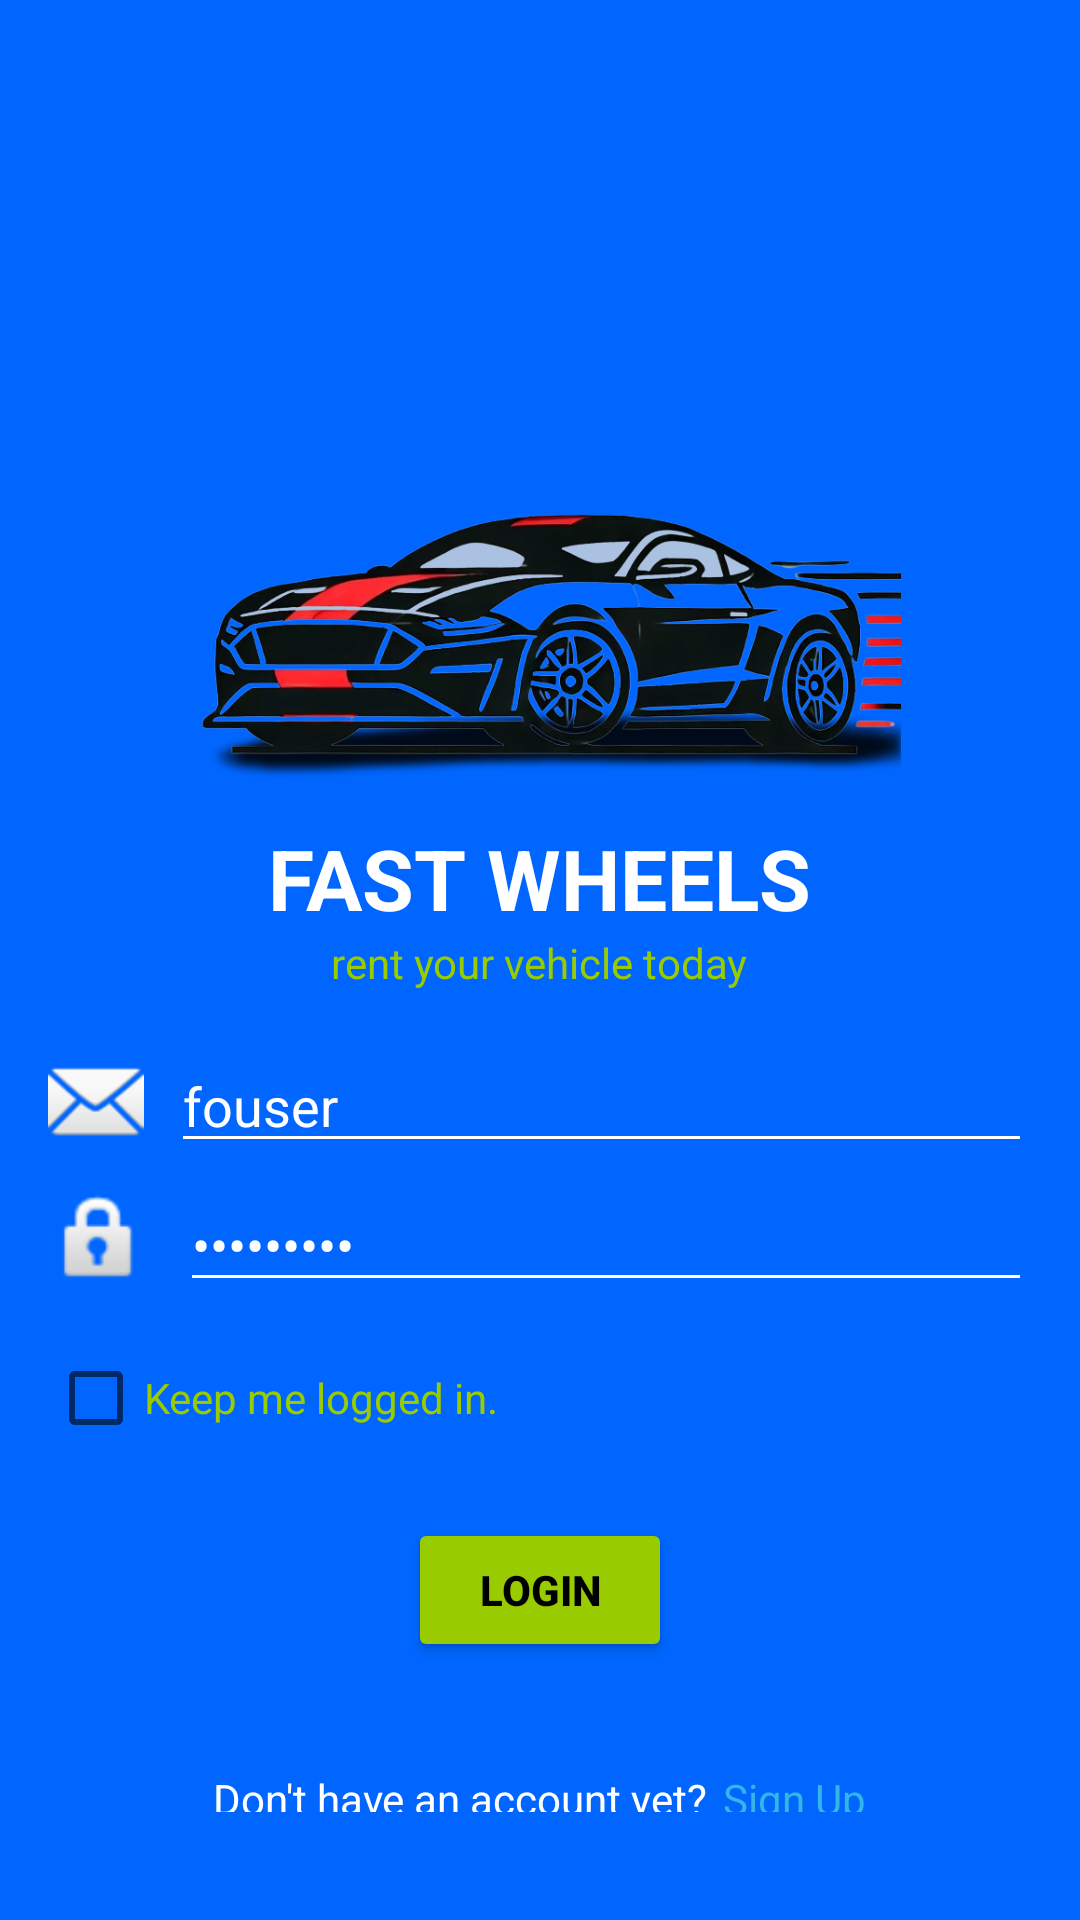

Icon bounding boxes for this 1080*1920 phone screenshot, format rect(x1, y1, x2, y2):
email: rect(48, 1068, 144, 1136)
lock idle: rect(64, 1196, 133, 1277)
